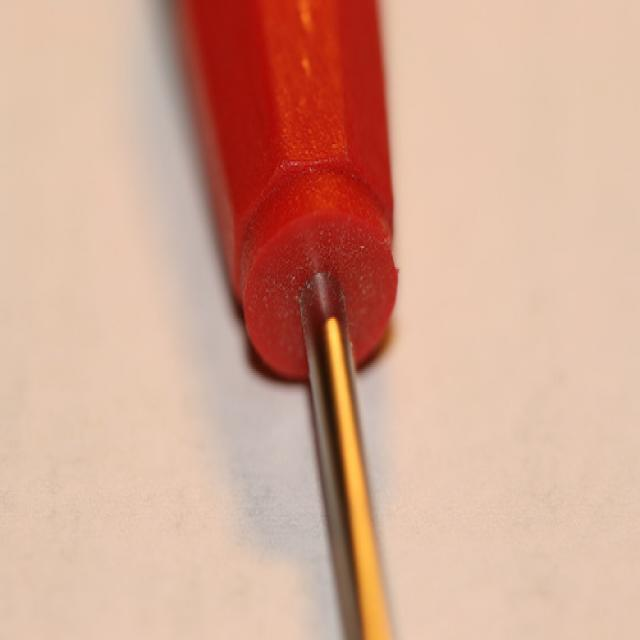screwdriver: (147, 0, 476, 640)
